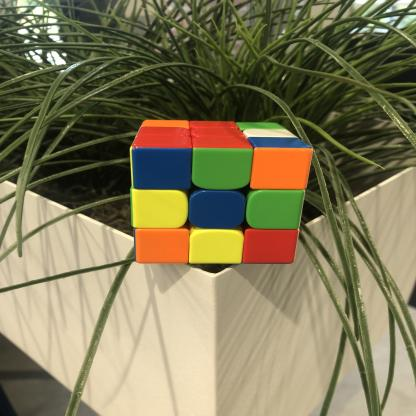UnsolvedCube: (106, 112, 317, 272)
